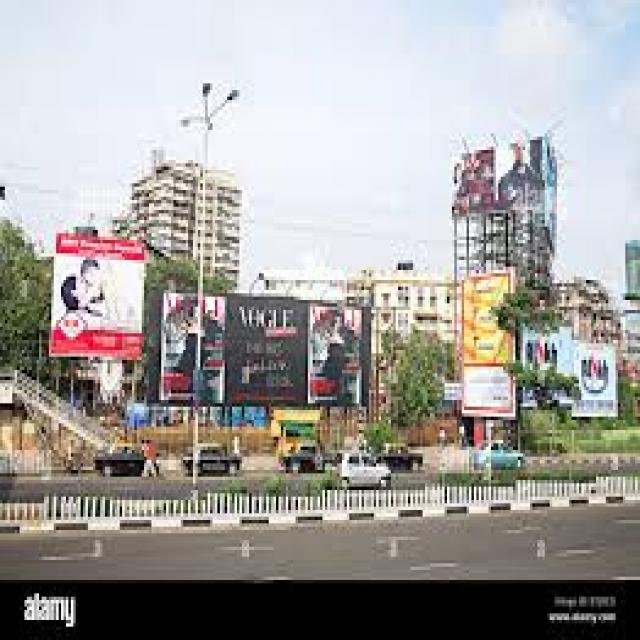Werbetafel frei: (160, 294, 371, 404), (54, 232, 142, 361), (461, 274, 517, 419), (454, 136, 544, 214), (525, 322, 576, 402), (576, 340, 618, 420), (544, 138, 560, 244), (626, 241, 640, 305)
